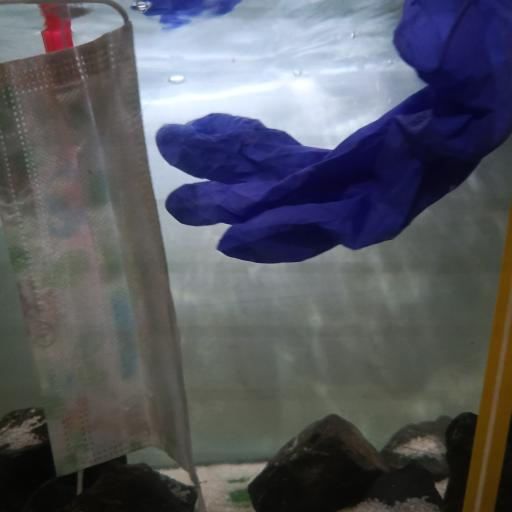glove: (155, 2, 512, 266)
mask: (0, 23, 200, 495)
plastic_straw: (464, 233, 511, 512)
